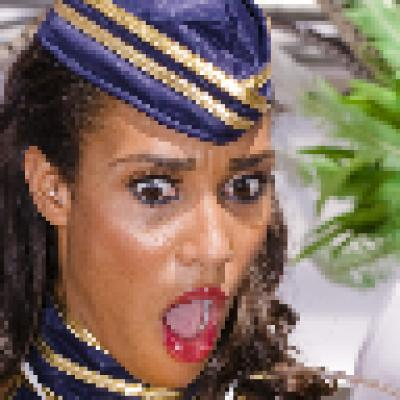surprise: (58, 65, 272, 383)
